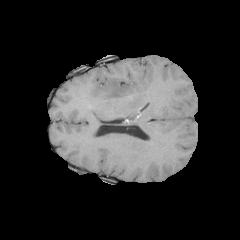glioma: (96, 77, 138, 101)
